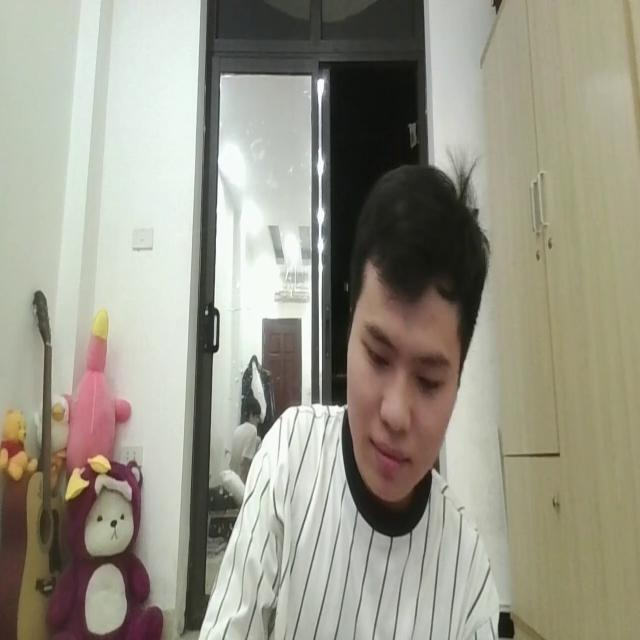student: (204, 151, 500, 640)
